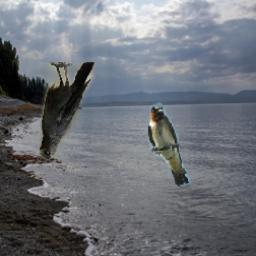Crow: (39, 62, 94, 159)
Swallow: (147, 102, 191, 186)
